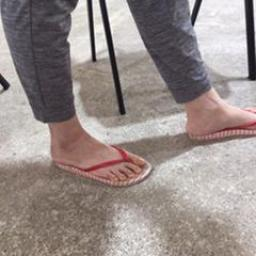Lateral View -Right Foot-: (38, 108, 154, 195)
